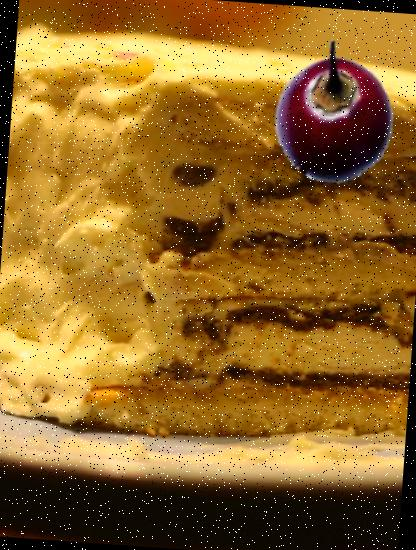Tamarillo: (268, 53, 402, 186)
